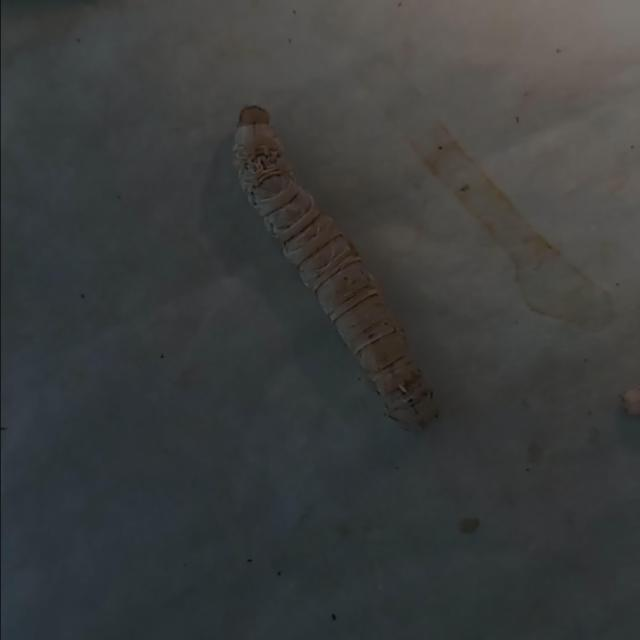Grasserie: (221, 95, 450, 447)
